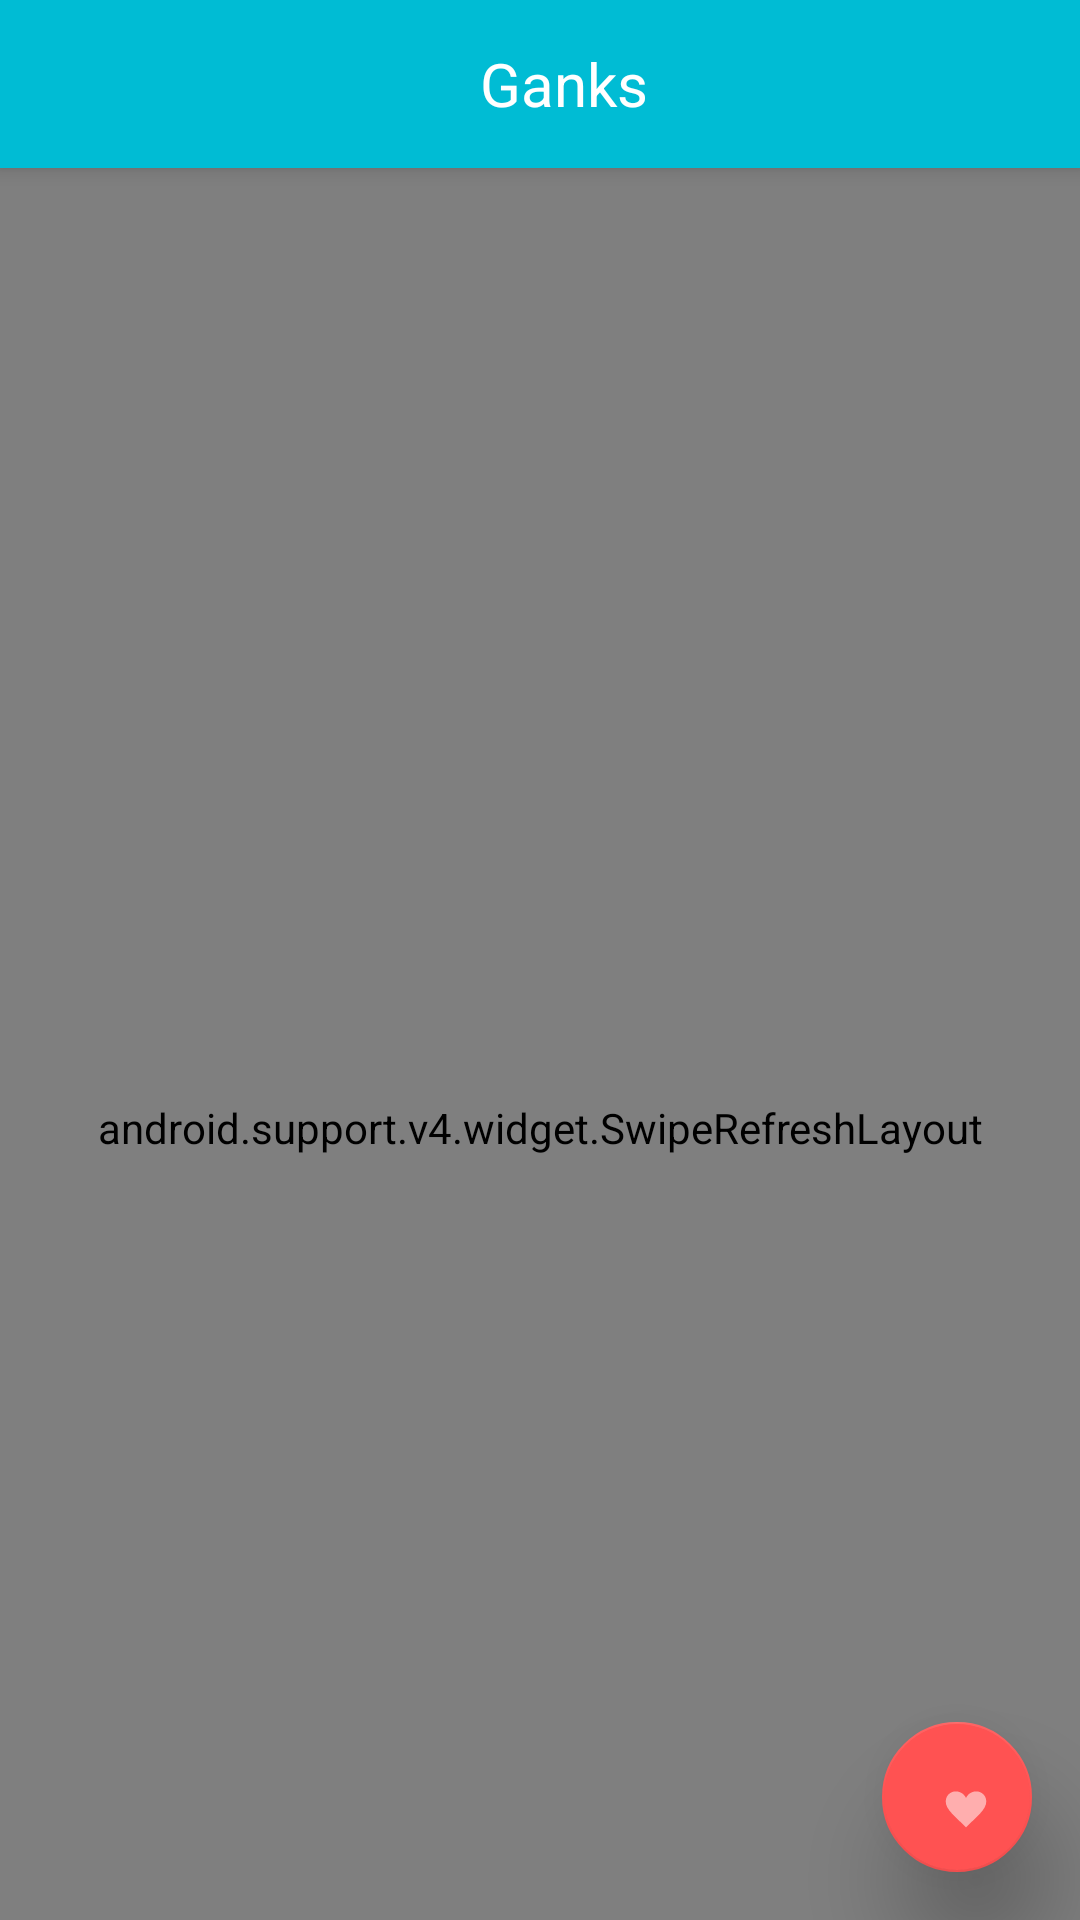

Icons on this 1080x1920 Android screen, each with its box as (x1, y1, x2, y2):
heart: (882, 1722, 1032, 1872)
